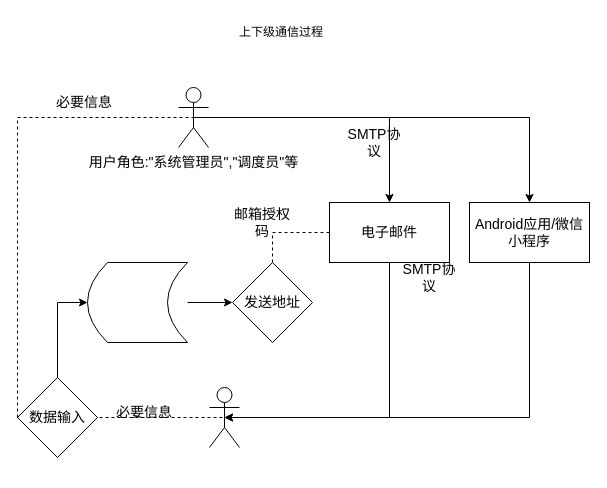
Image size: 607x488. Some labels were removed from this diagram. The shapes that lost their labels are listed below. From the top down, each one's box as (x1, y1, x2, y2) in pixels, then its label:
(86, 262, 188, 342): 数据库
(208, 386, 240, 448): 用户角色:"司机","维修员"
